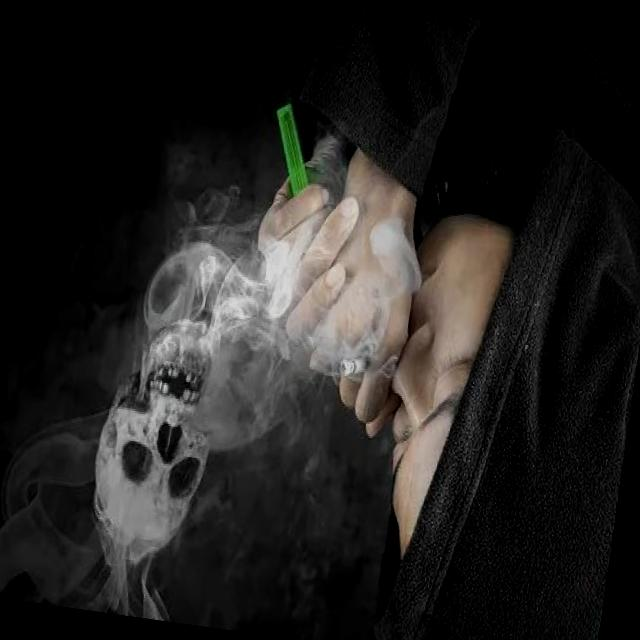cigarette: (336, 349, 378, 386)
